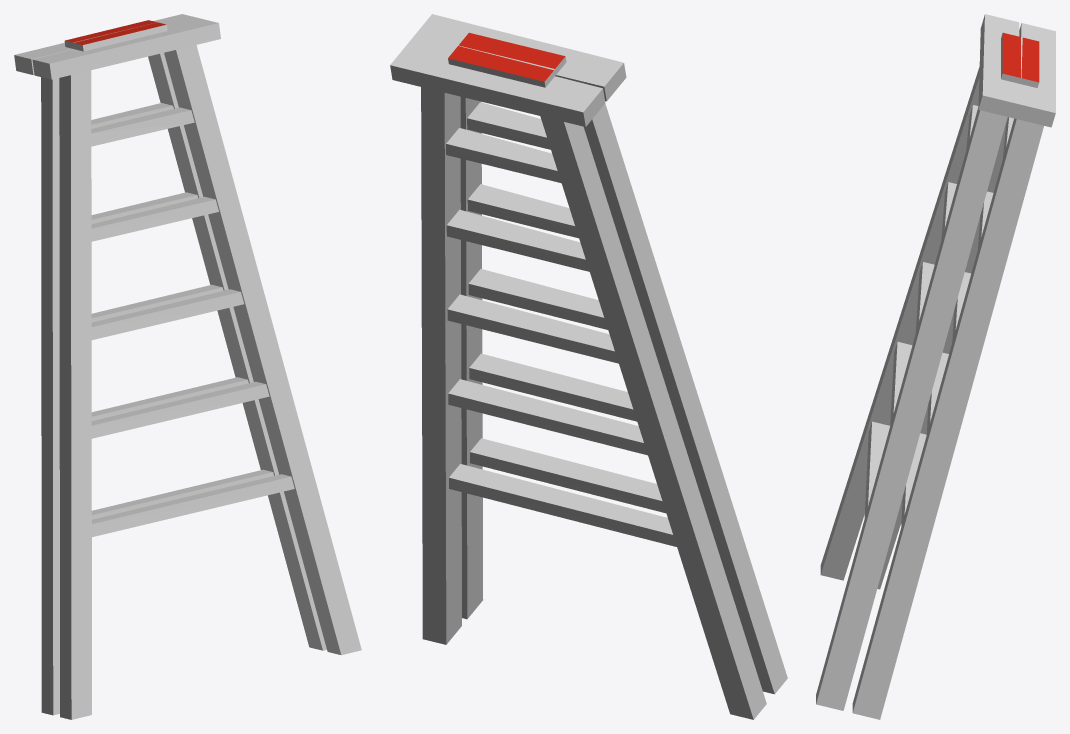
The model's file is wood ladder.fbx.
3 views of the same model, side by side, from view 1: azimuth 30°, elevation 25°; view 2: azimuth 150°, elevation 25°; view 3: azimuth 270°, elevation 25° (orthographic). The views are drawn at different scales.
Visible parts, largest first — view 1: Group#199-Entity879993; view 2: Group#199-Entity879993; view 3: Group#199-Entity879993.
Part boxes in pixels (x1,y1,x2,y2): Group#199-Entity879993: [14, 14, 361, 719]; Group#199-Entity879993: [390, 14, 787, 719]; Group#199-Entity879993: [816, 14, 1055, 719].
Bounding box in the file's own units: 70.21 × 139 × 50.66.
